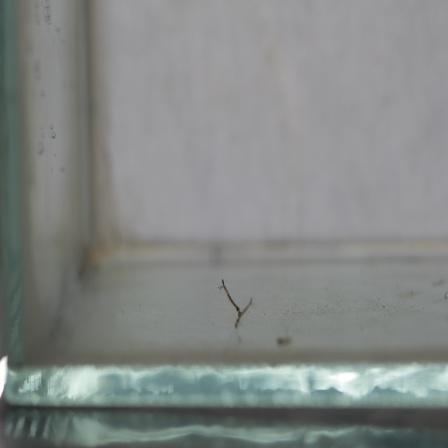Jentik-Nyamuk: (218, 274, 258, 331)
